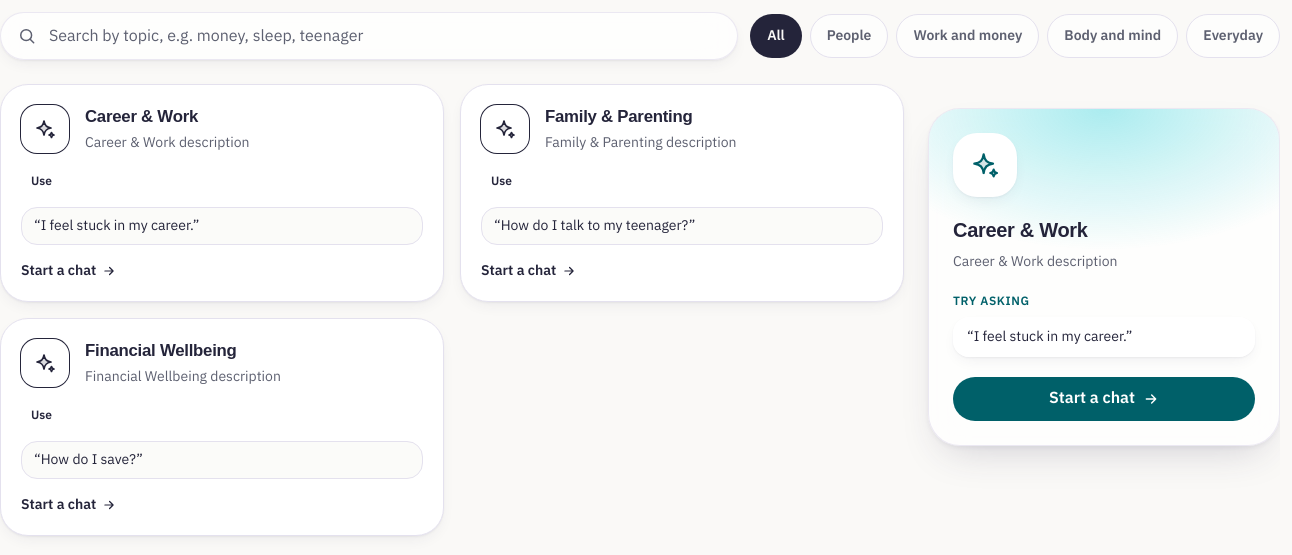
Test: assistant directory › filters by group and by text, and says when nothing matches
The image size is (1292, 555).
Click the radio button labelled "People": (849, 36) [810, 14, 888, 58]
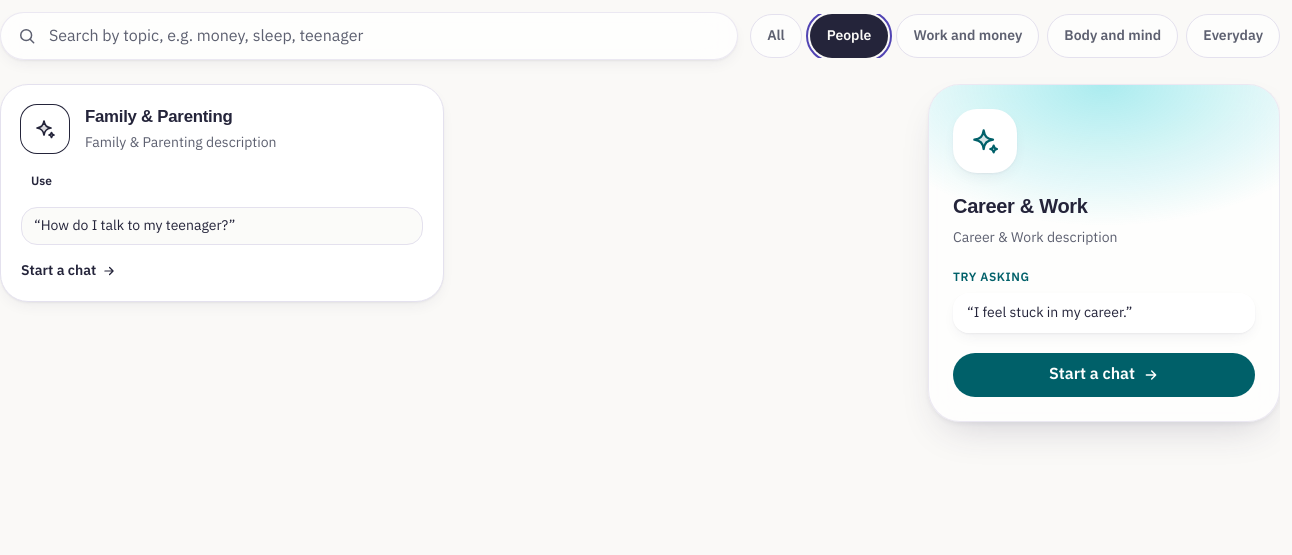
Check: the radio button labelled "People" is checked, box [810, 14, 888, 58]
Click the radio button labelled "All": (776, 36) [750, 14, 802, 58]
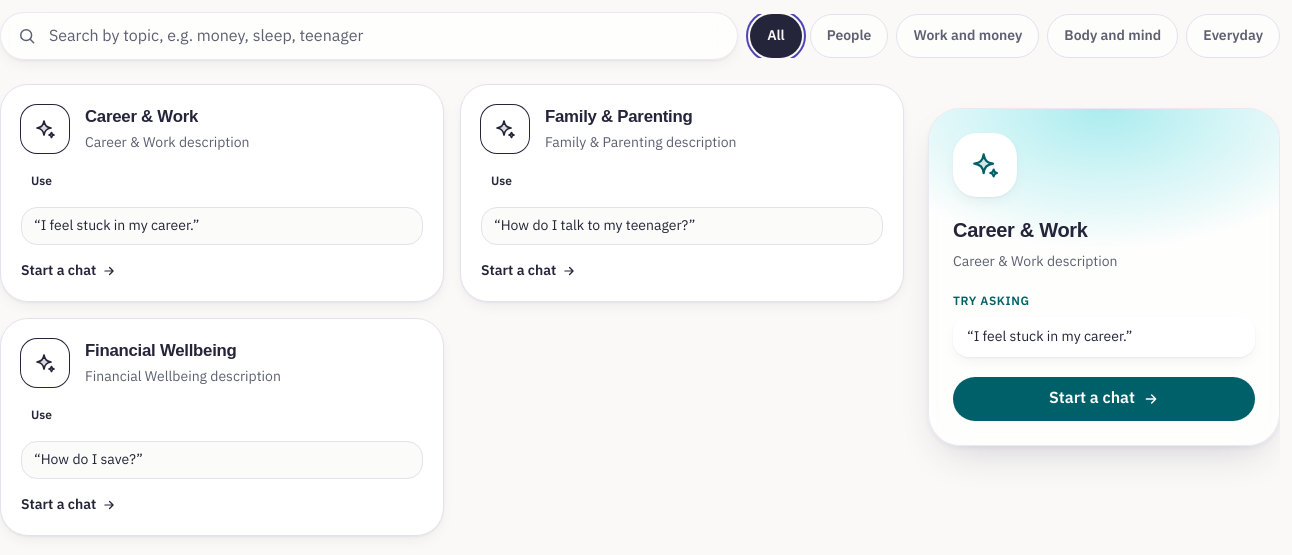
In the search field named "Search assistants": (385, 36) [49, 24, 721, 48], type "teenager"
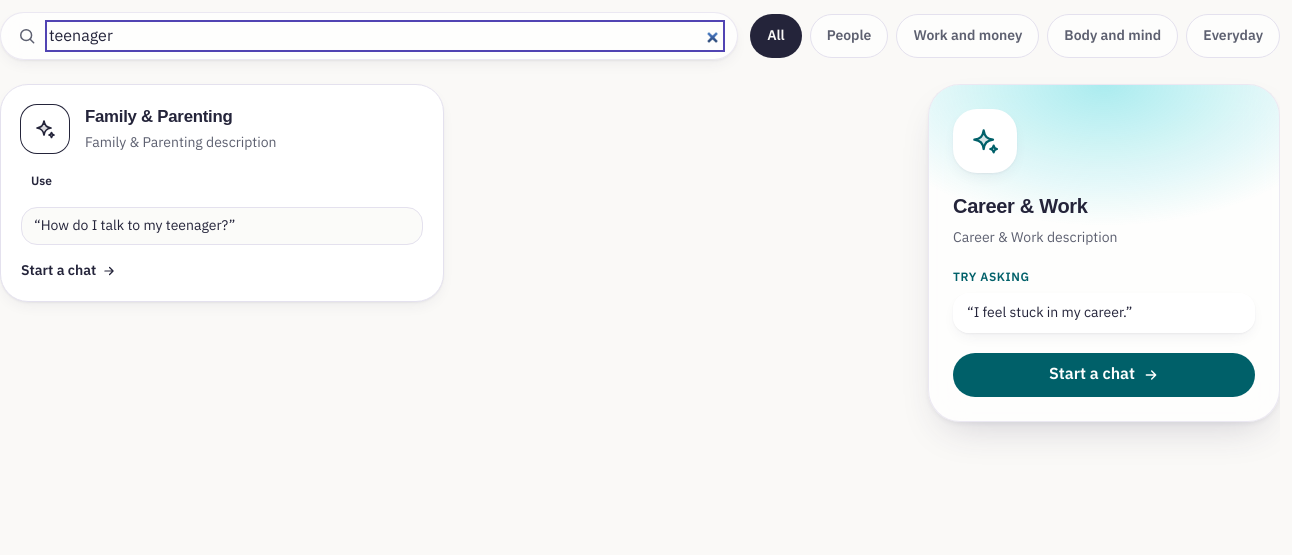
Replace the text in the search field with "astronomy": (385, 36) [49, 24, 721, 48]
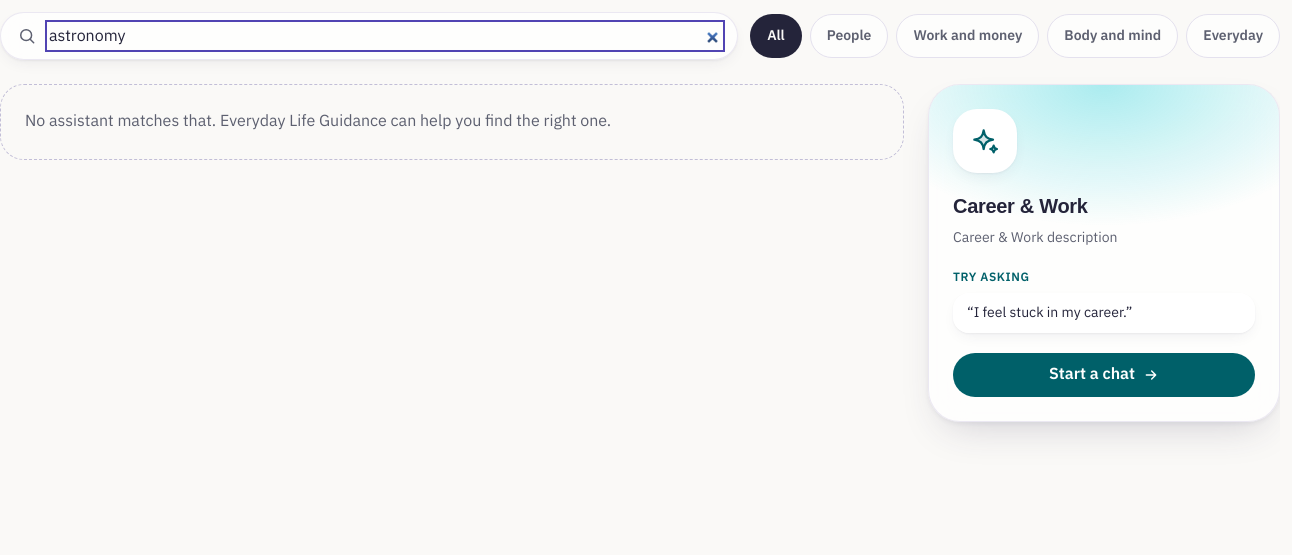
Check: the message shows "No assistant matches that. Everyday Life Guidance can help you find the right one.", box [25, 109, 611, 133]
